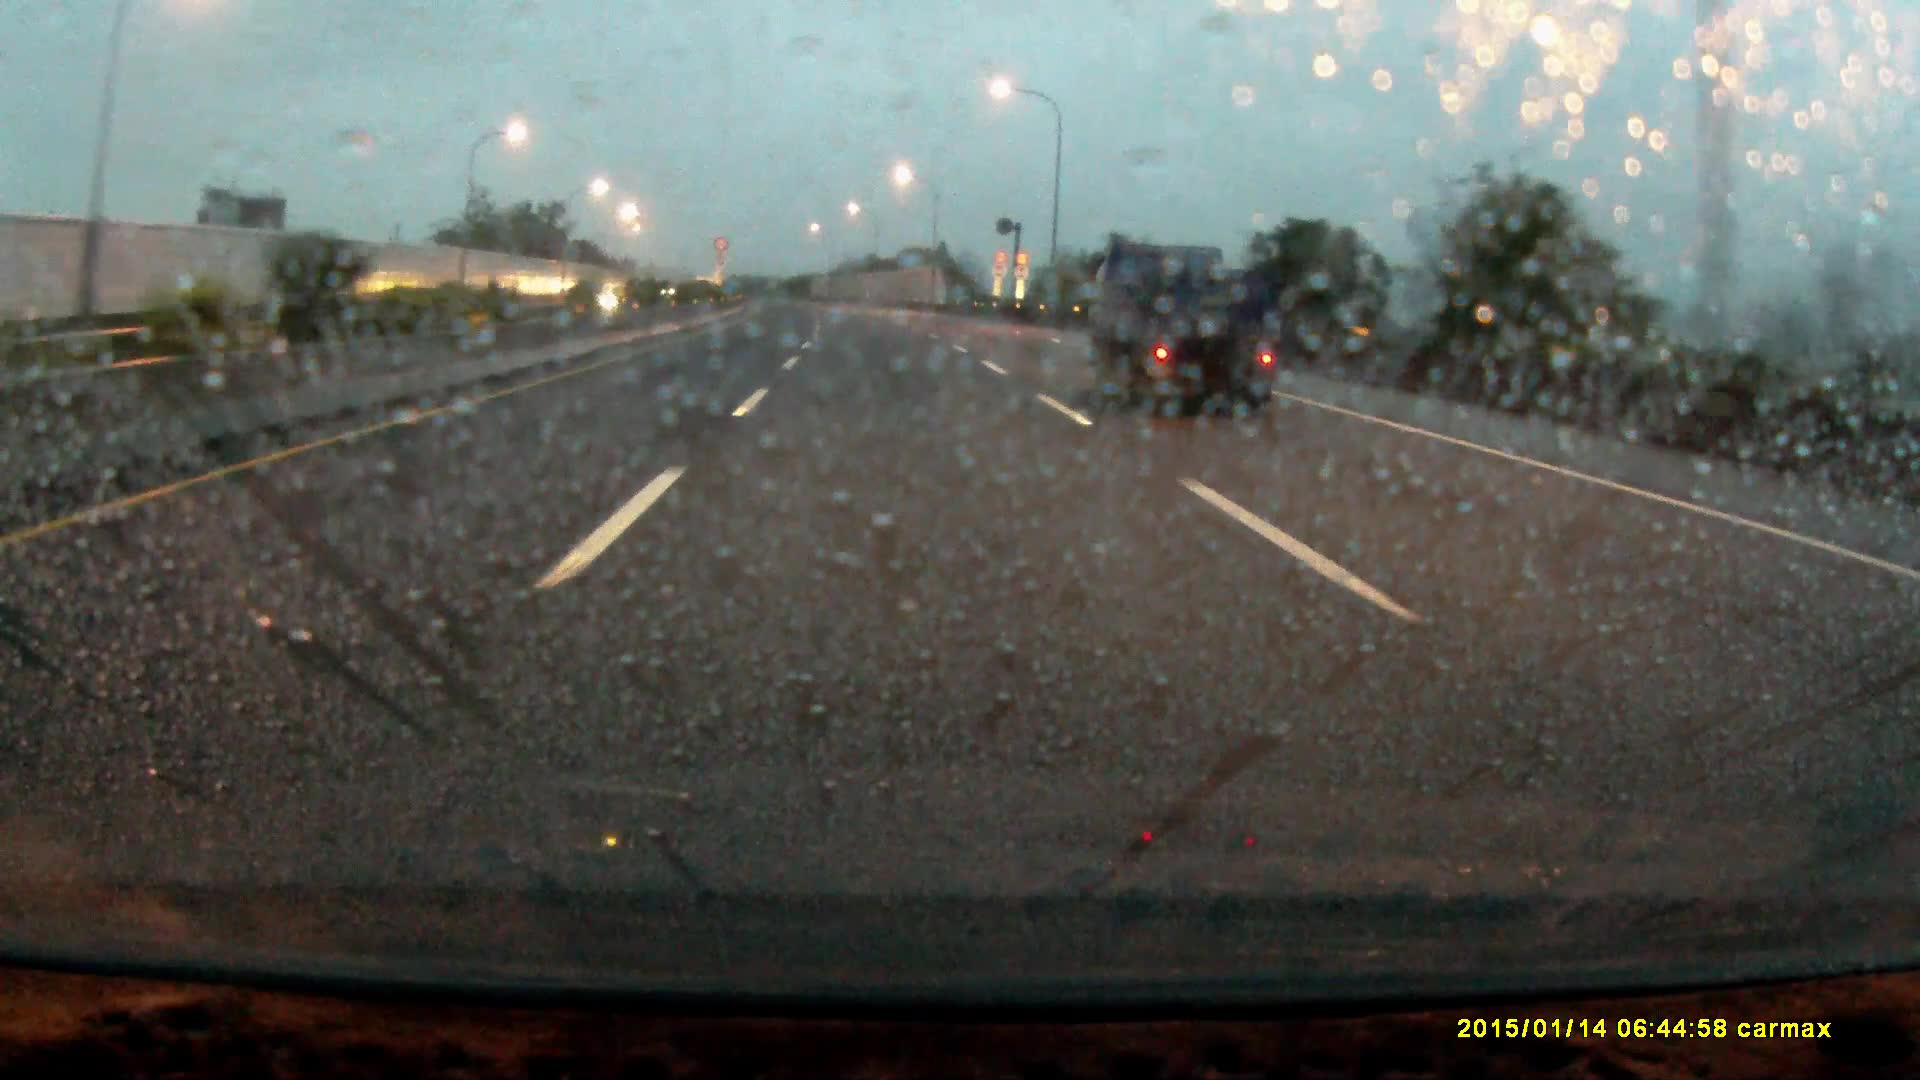vehicle: (1084, 244, 1279, 414)
